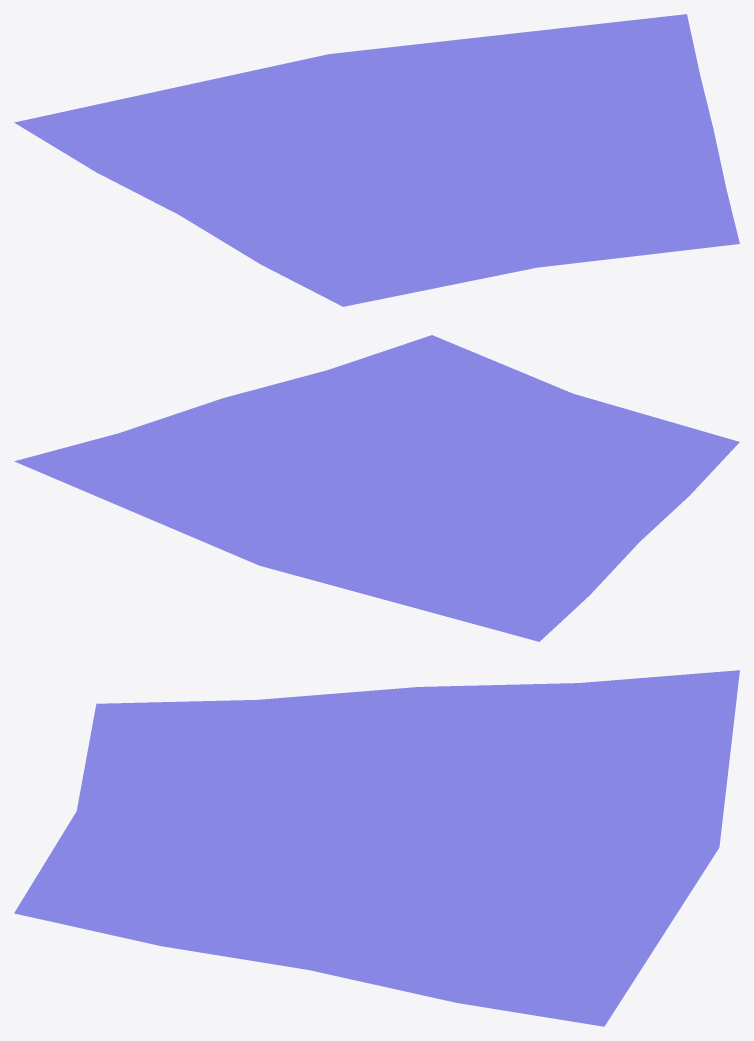
Rendered from track_la_coll_road_24.fbx.
3 renders of one model, top to bottom at view 1: azimuth 30°, elevation 25°; view 2: azimuth 150°, elevation 25°; view 3: azimuth 270°, elevation 25°, orthographic. The views are drawn at different scales.
Parts seen in each view (by area): view 1: track_la_coll_road_24; view 2: track_la_coll_road_24; view 3: track_la_coll_road_24.
Boxes of the visible parts, left/top/right/bottom form: track_la_coll_road_24: left=14, top=14, right=739, bottom=306; track_la_coll_road_24: left=14, top=335, right=739, bottom=641; track_la_coll_road_24: left=14, top=670, right=739, bottom=1026.
Size of the model in its own units: 69.29 by 0.4061 by 59.61.
